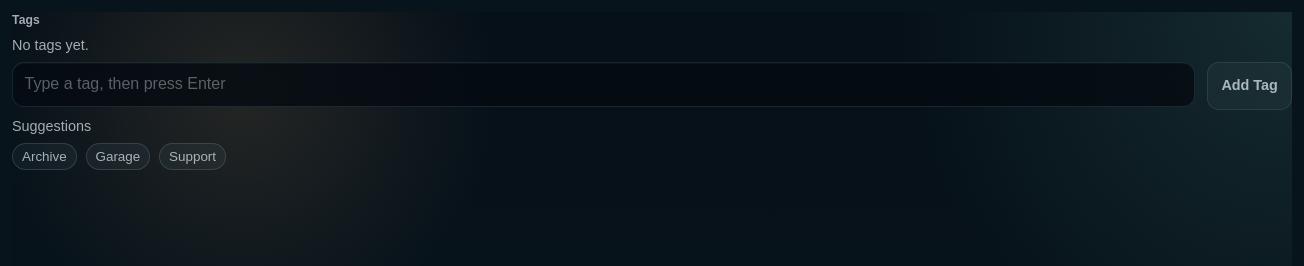
Test: TagEditorField › adds suggestion tags without duplicating selected tags
The width and height of the screenshot is (1304, 266).
Click the button "Archive" at (44, 157), box [12,143,77,170]
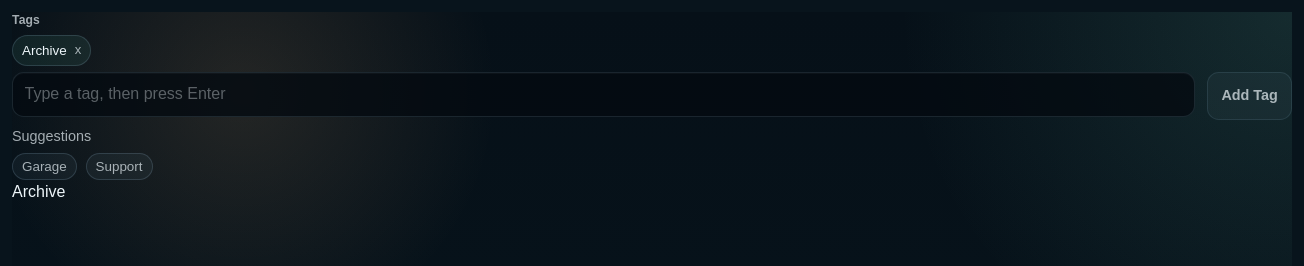
Click the button "Garage" at (44, 167), box [12,153,77,180]
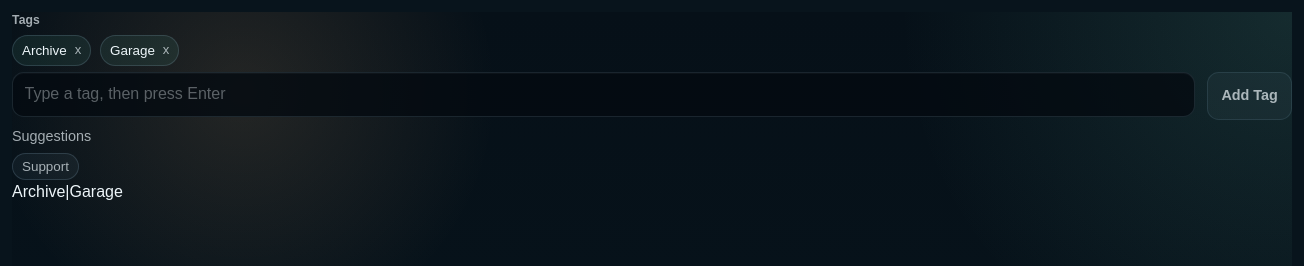
Now the text with test id "tag-output" reads "Archive|Garage", box [12,183,123,200]
